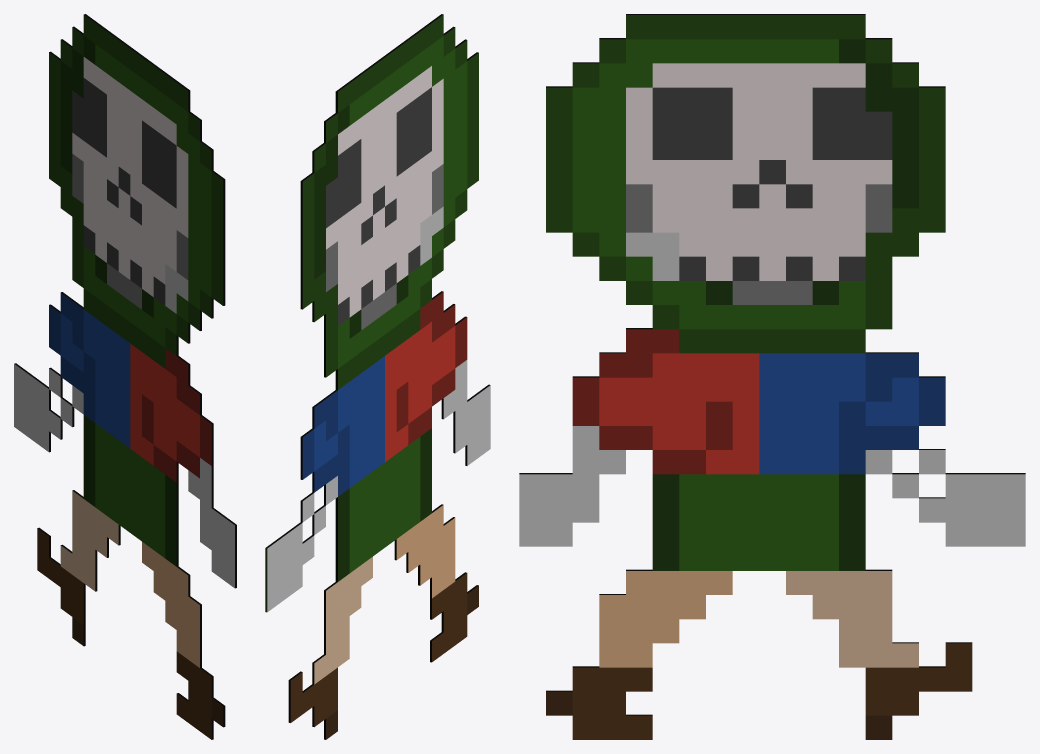
The model's file is Enemy2WC6.fbx.
3 views of the same model, side by side, from view 1: azimuth 30°, elevation 25°; view 2: azimuth 150°, elevation 25°; view 3: azimuth 270°, elevation 25° (orthographic). The views are drawn at different scales.
Parts seen in each view (by area): view 1: Cube; view 2: Cube; view 3: Cube.
Part boxes in pixels (box(x1,y1,x2,y2)): Cube: box(14, 14, 236, 739); Cube: box(265, 14, 490, 739); Cube: box(519, 14, 1025, 739).
Size of the model in its own units: 20 by 6000 by 3800.
